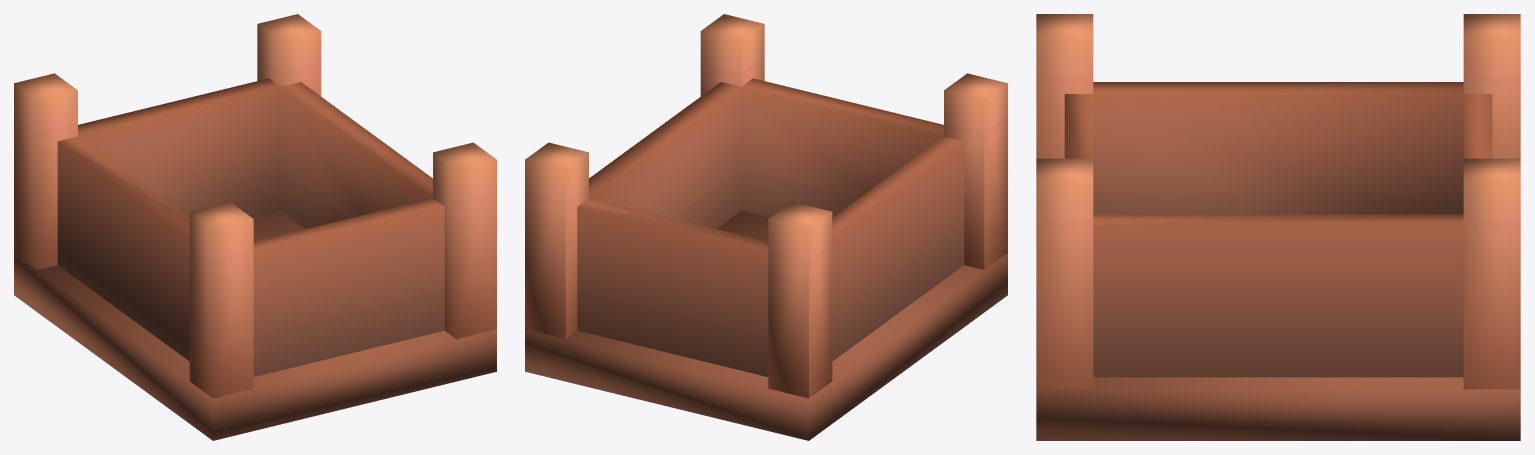
File: crate-low.glb
3 renders of one model, left to right at view 1: azimuth 30°, elevation 25°; view 2: azimuth 150°, elevation 25°; view 3: azimuth 270°, elevation 25°, orthographic. The views are drawn at different scales.
Visible parts, largest first — view 1: crate baked; view 2: crate baked; view 3: crate baked.
Boxes of the visible parts, x1=… form: crate baked: x1=14, y1=14, x2=496, y2=440; crate baked: x1=525, y1=14, x2=1007, y2=440; crate baked: x1=1036, y1=14, x2=1520, y2=440.
Size of the model in its own units: 1.08 by 0.77 by 1.31.
1 material, 1 textured.
